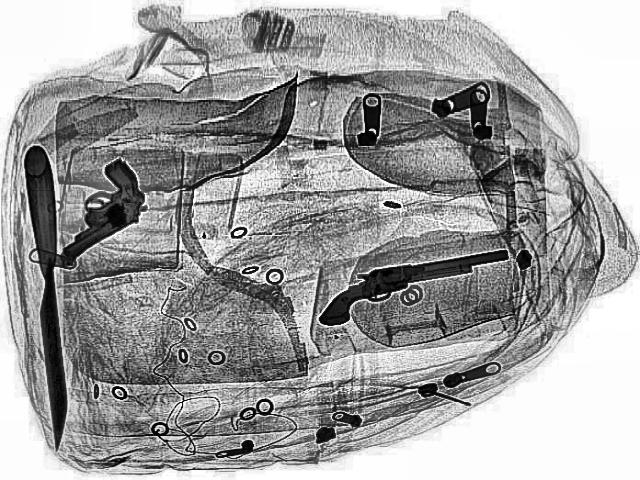Gun: (304, 246, 522, 326), (13, 157, 173, 261)
Knife: (20, 142, 70, 450)
